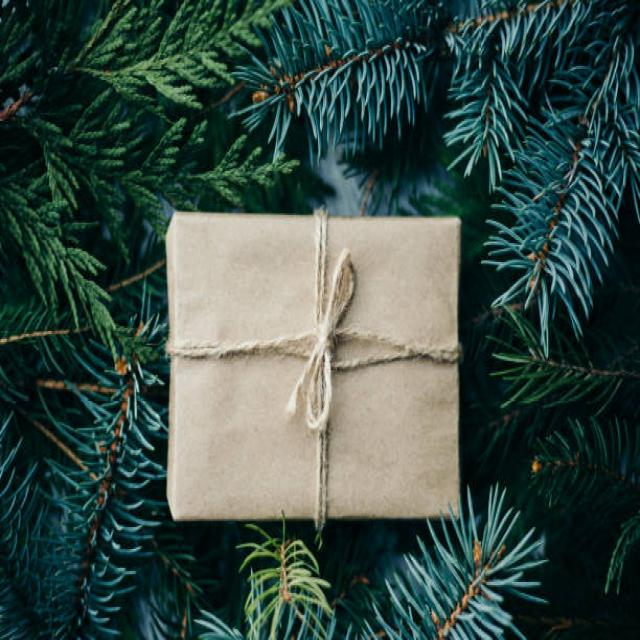electronic: (164, 209, 461, 524)
